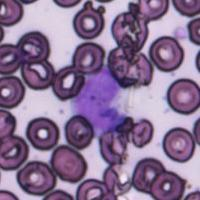M: (72, 64, 128, 136)
